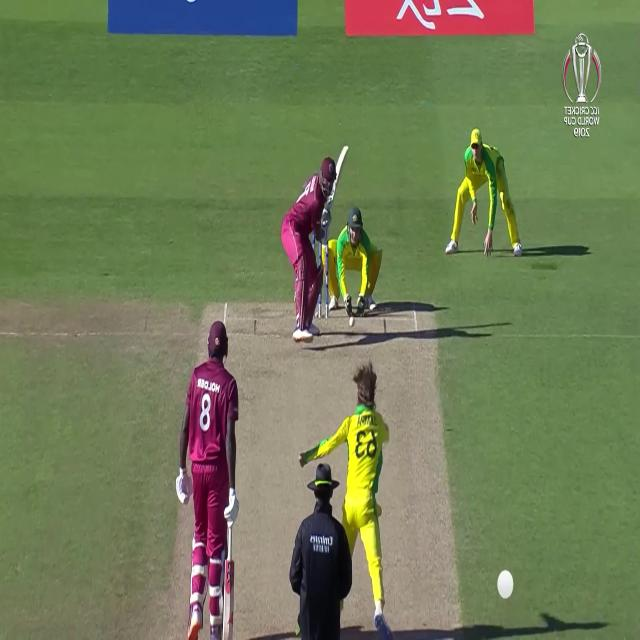ball: (346, 317, 356, 328)
